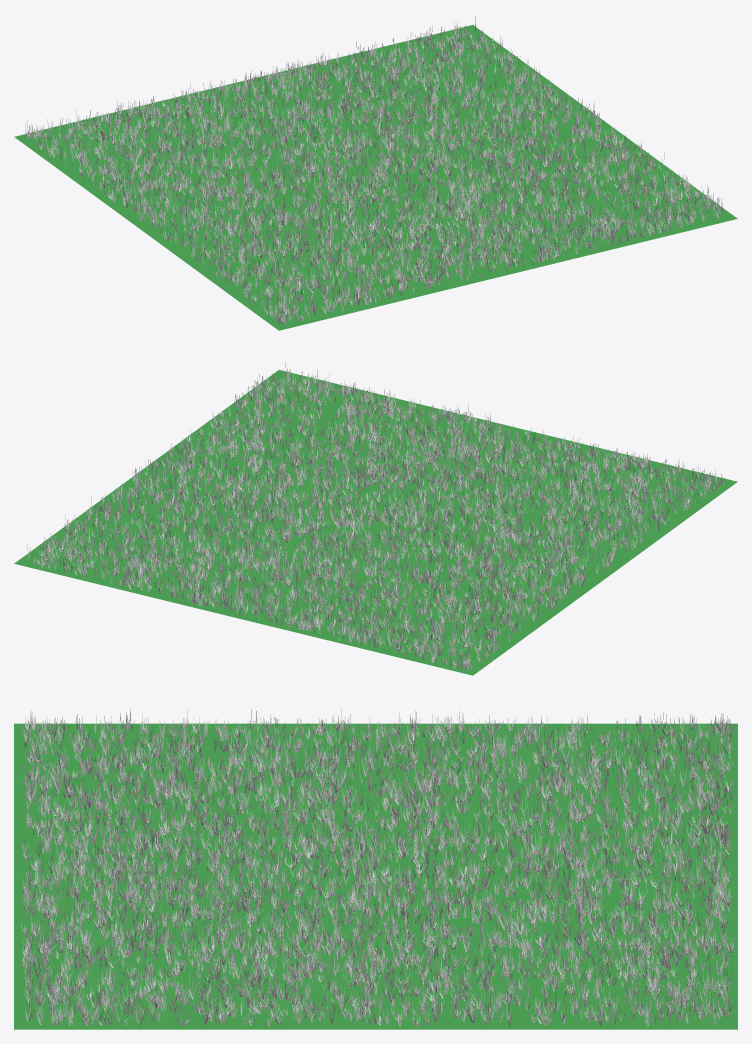
The model's file is Grass.fbx.
3 views of the same model, one above another, from view 1: azimuth 30°, elevation 25°; view 2: azimuth 150°, elevation 25°; view 3: azimuth 270°, elevation 25° (orthographic). The views are drawn at different scales.
Parts seen in each view (by area): view 1: Ground; view 2: Ground; view 3: Ground.
Boxes of the visible parts, x1,y1,x2,y2 form: Ground: [14, 25, 737, 330]; Ground: [14, 370, 737, 675]; Ground: [14, 723, 737, 1029].
Bounding box in the file's own units: 40 × 1.52 × 40.
